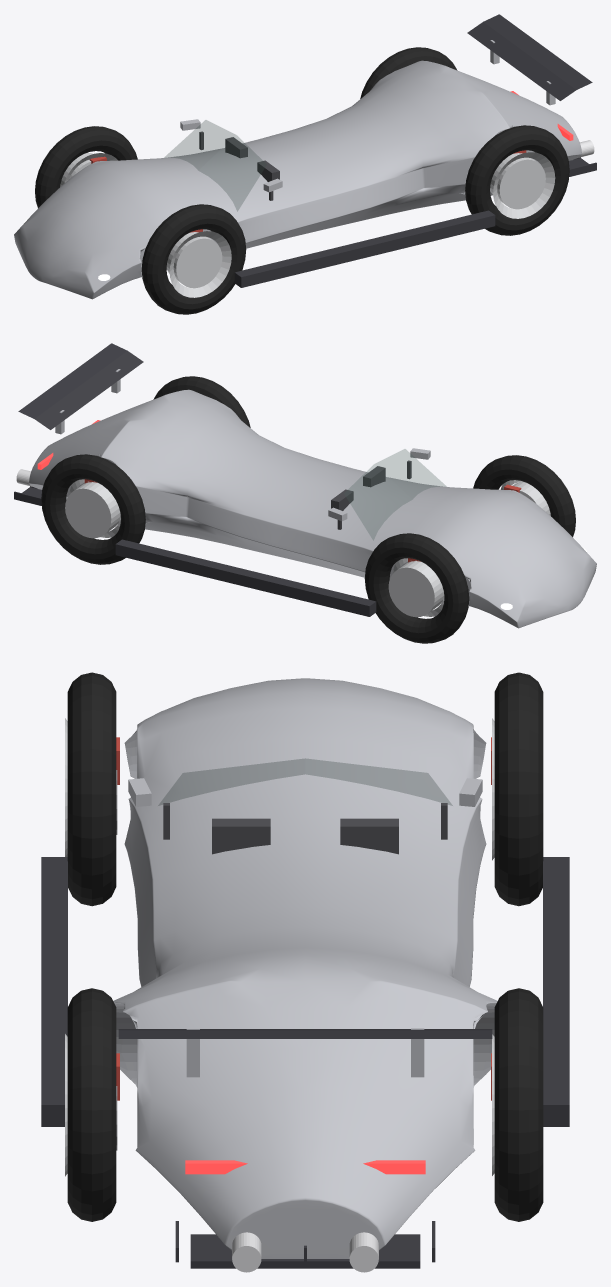
File: cx-vortex-spyder.glb
The picture shows the model from 3 angles, top to bottom: view 1: azimuth 30°, elevation 25°; view 2: azimuth 150°, elevation 25°; view 3: azimuth 270°, elevation 25°; orthographic projection. The views are drawn at different scales.
Parts seen in each view (by area): view 1: CX_Body, CX_Tire_FR, CX_Tire_RR, Side_Skirt_Wide_R, CX_Glass_Windshield, Spoiler, CX_Rim_RR, CX_Rim_FR, CX_Tire_FL, CX_Tire_RL, CX_Rim_FL; view 2: CX_Body, CX_Tire_FL, CX_Tire_RL, Side_Skirt_Wide_L, CX_Glass_Windshield, Spoiler, CX_Tire_FR, CX_Rim_RL, CX_Rim_FL, CX_Tire_RR, CX_Rim_FR; view 3: CX_Body, CX_Tire_RL, CX_Tire_RR, CX_Tire_FR, CX_Tire_FL, Side_Skirt_Wide_L, Side_Skirt_Wide_R, CX_Glass_Windshield, Spoiler, Diffuser, CX_SeatBack_L, CX_SeatBack_R (+4 smaller).
Boxes of the visible parts, bbox=[...] form: CX_Body: bbox=[14, 60, 581, 299]; CX_Tire_FR: bbox=[141, 204, 246, 314]; CX_Tire_RR: bbox=[465, 125, 569, 235]; Side_Skirt_Wide_R: bbox=[234, 210, 495, 287]; CX_Glass_Windshield: bbox=[164, 120, 266, 211]; Spoiler: bbox=[467, 14, 592, 100]; CX_Rim_RR: bbox=[490, 152, 555, 218]; CX_Rim_FR: bbox=[166, 231, 231, 297]; CX_Tire_FL: bbox=[35, 126, 137, 207]; CX_Tire_RL: bbox=[360, 47, 457, 98]; CX_Rim_FL: bbox=[60, 152, 117, 186]; CX_Body: bbox=[29, 389, 596, 628]; CX_Tire_FL: bbox=[364, 533, 469, 643]; CX_Tire_RL: bbox=[41, 454, 145, 564]; Side_Skirt_Wide_L: bbox=[115, 539, 376, 616]; CX_Glass_Windshield: bbox=[344, 449, 446, 540]; Spoiler: bbox=[18, 343, 143, 429]; CX_Tire_FR: bbox=[473, 455, 575, 536]; CX_Rim_RL: bbox=[65, 479, 120, 538]; CX_Rim_FL: bbox=[388, 558, 444, 617]; CX_Tire_RR: bbox=[153, 376, 250, 427]; CX_Rim_FR: bbox=[501, 480, 550, 515]; CX_Body: bbox=[113, 678, 497, 1258]; CX_Tire_RL: bbox=[494, 988, 543, 1221]; CX_Tire_RR: bbox=[67, 988, 116, 1221]; CX_Tire_FR: bbox=[67, 672, 116, 906]; CX_Tire_FL: bbox=[494, 672, 543, 906]; Side_Skirt_Wide_L: bbox=[543, 857, 569, 1126]; Side_Skirt_Wide_R: bbox=[41, 857, 67, 1126]; CX_Glass_Windshield: bbox=[158, 758, 452, 805]; Spoiler: bbox=[118, 1029, 492, 1038]; Diffuser: bbox=[190, 1234, 420, 1268]; CX_SeatBack_L: bbox=[340, 818, 398, 854]; CX_SeatBack_R: bbox=[212, 818, 270, 854].
Size of the model in its own units: 4.68 by 1.04 by 1.98.
